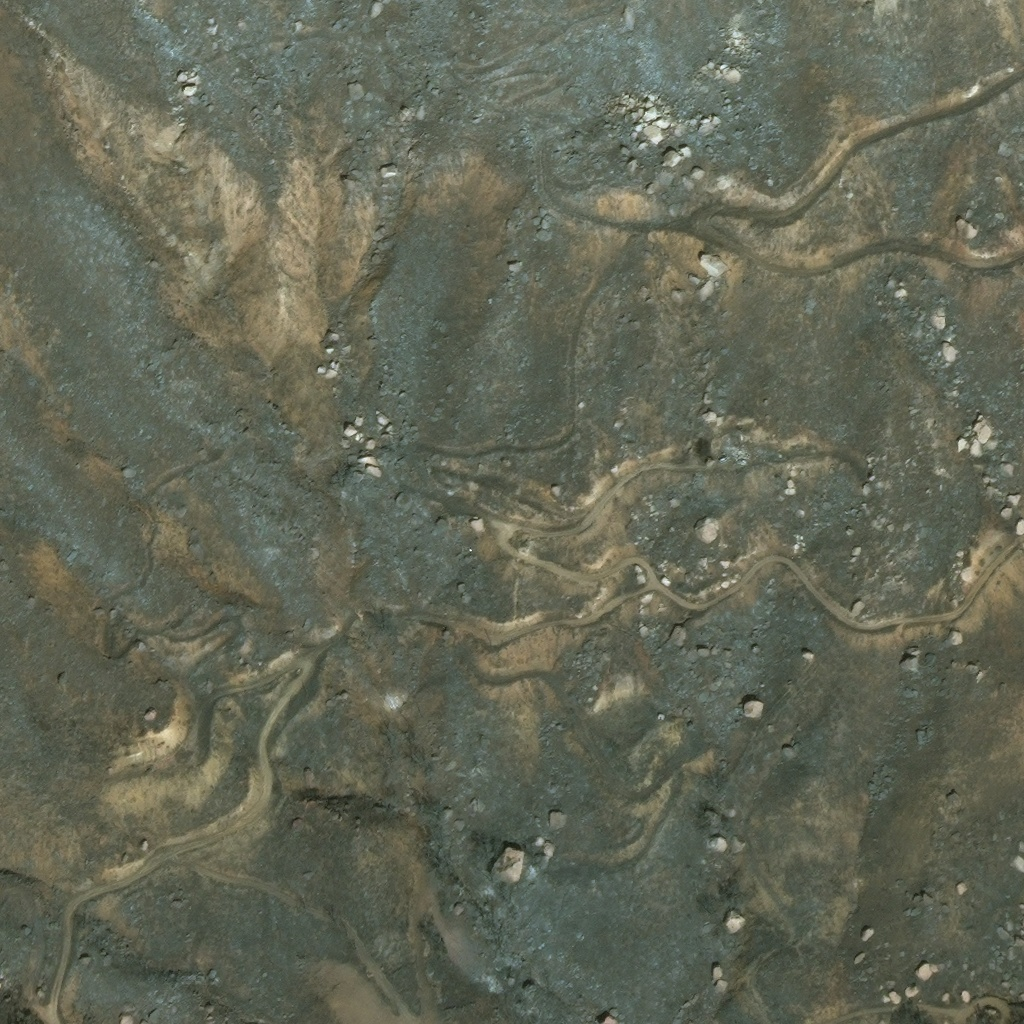3 destroyed: (731, 448, 753, 462)
